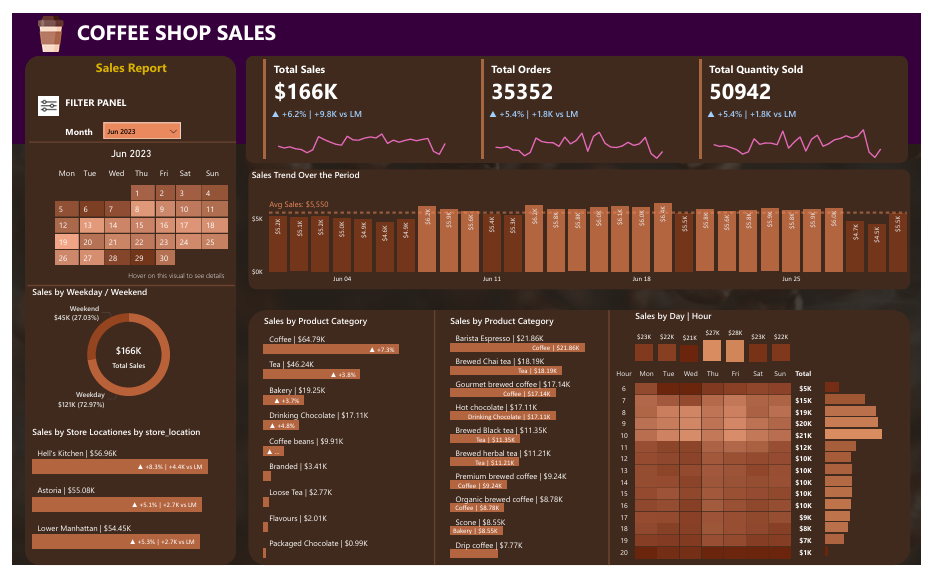

This screenshot's page, from the dashboard's own definition file:
{"tool":"powerbi","page":{"name":"Page 1","canvas":[1400,850],"ordinal":0},"visuals":[{"type":"shape","box":[0,0,1400,200.6],"z":0},{"type":"shape","box":[20.4,64.6,324.7,785.4],"z":1000},{"type":"shape","box":[360.4,64.6,1020,164.9],"z":2000},{"type":"textbox","box":[95.2,0,338.3,57.8],"z":3000},{"type":"cardVisual","fields":{"Data":["Transactions.Total Sales"]},"box":[382.5,64.6,299.2,164.9],"z":4000,"group":"g1"},{"type":"cardVisual","fields":{"Data":["Transactions.Total Orders"]},"box":[718.2,64.6,299.2,164.9],"z":4000,"group":"g2"},{"type":"cardVisual","fields":{"Data":["Transactions.Total Quantity Sold"]},"box":[1054,64.6,299.2,164.9],"z":4000,"group":"g3"},{"type":"slicer","fields":{"Values":["Date Table.Month Year"]},"box":[136,163.2,129.2,34],"z":4000},{"type":"group","id":"g1","title":"Group 1","box":[382.5,64.6,299.2,164.9],"z":5000},{"type":"group","id":"g2","title":"Group 2","box":[718.2,64.6,299.2,164.9],"z":6000},{"type":"lineChart","fields":{"Category":["Date Table.Date.Variation.Date Hierarchy.Year"],"Y":["Transactions.Total Sales"]},"box":[394.4,144.5,287.3,85],"z":6000,"group":"g1"},{"type":"lineChart","fields":{"Category":["Date Table.Date.Variation.Date Hierarchy.Year"],"Y":["Transactions.Total Orders"]},"box":[730.1,144.5,287.3,85],"z":6000,"group":"g2"},{"type":"lineChart","fields":{"Category":["Date Table.Date.Variation.Date Hierarchy.Year"],"Y":["Transactions.Total Quantity Sold"]},"box":[1065.9,144.5,287.3,85],"z":6000,"group":"g3"},{"type":"group","id":"g3","title":"Group 2","box":[1054,64.6,299.2,164.9],"z":7000},{"type":"pivotTable","fields":{"Rows":["Date Table.Week Number"],"Columns":["Date Table.Day Name"],"Values":["Min(Date Table.Day Number)"]},"box":[35.7,229.5,305,190],"z":8000},{"type":"card","fields":{"Values":["Min(Date Table.Month Year)"]},"box":[141.1,200.6,85,30.6],"z":9000},{"type":"card","fields":{"Values":["Transactions.Foot Note"]},"box":[151.3,391,204,28.9],"z":10000},{"type":"shape","box":[23.8,401.2,319.6,35.7],"z":11000},{"type":"shape","box":[25.5,180.2,319.6,35.7],"z":12000},{"type":"donutChart","title":"Sales by Weekday / Weekend","fields":{"Category":["Date Table.Weekday / Weekend"],"Y":["Transactions.Total Sales"]},"box":[25.5,419.9,307.7,193.8],"z":13000},{"type":"card","fields":{"Values":["Transactions.Total Sales"]},"box":[136,499.8,86.7,56.1],"z":14000},{"type":"shape","box":[795.6,635.8,319.6,35.7],"z":15000},{"type":"clusteredBarChart","title":"Sales by Store Locationes by store_location","fields":{"Category":["Transactions.store_location"],"Y":["Transactions.Placeholder","Transactions.Total Sales"]},"box":[25.5,635.8,307.7,197.2],"z":16000},{"type":"shape","box":[363.8,239.7,1020,185.3],"z":17000},{"type":"columnChart","title":"Sales Trend Over the Period","fields":{"Category":["Transactions.transaction_date"],"Y":["Transactions.Total Sales"]},"box":[363.8,239.7,1020,185.3],"z":18000},{"type":"shape","box":[363.8,457.3,1020,392.7],"z":19000},{"type":"clusteredBarChart","title":"Sales by Product Category","fields":{"Y":["Transactions.Placeholder","Transactions.Total Sales"],"Category":["Transactions.product_category"]},"box":[382.5,464.1,249.9,380.8],"z":20000},{"type":"shape","box":[632.4,457.3,37.4,392.7],"z":21000},{"type":"clusteredBarChart","title":"Sales by Product Category","fields":{"Y":["Transactions.Placeholder","Transactions.Total Sales"],"Category":["Transactions.product_type"]},"box":[669.8,464.1,249.9,380.8],"z":22000},{"type":"shape","box":[901,457.3,37.4,392.7],"z":23000},{"type":"pivotTable","fields":{"Rows":["Transactions.Hour"],"Columns":["Date Table.Day Name"],"Values":["Transactions.Total Sales"]},"box":[919.7,542.3,370.6,307.7],"z":24000},{"type":"barChart","fields":{"Category":["Transactions.Hour"],"Y":["Transactions.Total Sales"]},"box":[1247.8,555.9,132.6,283.9],"z":25000},{"type":"columnChart","title":"Sales by Day | Hour","fields":{"Y":["Transactions.Total Sales"],"Category":["Date Table.Day Name"]},"box":[955.4,457.3,248.2,85],"z":26000},{"type":"textbox","box":[76.5,168.3,64.6,32.3],"z":27000},{"type":"textbox","box":[124.1,64.6,129.2,40.8],"z":28000},{"type":"textbox","box":[76.5,122.4,129.2,40.8],"z":29000},{"type":"image","box":[35.7,122.4,40.8,39.1],"z":30000},{"type":"image","box":[23.8,0,71.4,64.6],"z":31000}]}

Visuals, with their boxes in screenshot pixels (x1, y1, x2, y2), scaled from the page's 1400x850 canvas onto the 933x581 screenshot:
shape: (x1=0, y1=0, x2=932, y2=137)
shape: (x1=14, y1=44, x2=230, y2=580)
shape: (x1=240, y1=44, x2=920, y2=157)
textbox: (x1=63, y1=0, x2=289, y2=40)
cardVisual - Transactions.Total Sales: (x1=255, y1=44, x2=454, y2=157)
cardVisual - Transactions.Total Orders: (x1=479, y1=44, x2=678, y2=157)
cardVisual - Transactions.Total Quantity Sold: (x1=702, y1=44, x2=902, y2=157)
slicer - Date Table.Month Year: (x1=91, y1=112, x2=177, y2=135)
"Group 1" group: (x1=255, y1=44, x2=454, y2=157)
"Group 2" group: (x1=479, y1=44, x2=678, y2=157)
lineChart - Date Table.Date.Variation.Date Hierarchy.Year x Transactions.Total Sales: (x1=263, y1=99, x2=454, y2=157)
lineChart - Date Table.Date.Variation.Date Hierarchy.Year x Transactions.Total Orders: (x1=487, y1=99, x2=678, y2=157)
lineChart - Date Table.Date.Variation.Date Hierarchy.Year x Transactions.Total Quantity Sold: (x1=710, y1=99, x2=902, y2=157)
"Group 2" group: (x1=702, y1=44, x2=902, y2=157)
pivotTable - Date Table.Week Number x Date Table.Day Name: (x1=24, y1=157, x2=227, y2=287)
card - Min(Date Table.Month Year): (x1=94, y1=137, x2=151, y2=158)
card - Transactions.Foot Note: (x1=101, y1=267, x2=237, y2=287)
shape: (x1=16, y1=274, x2=229, y2=299)
shape: (x1=17, y1=123, x2=230, y2=148)
"Sales by Weekday / Weekend" donutChart: (x1=17, y1=287, x2=222, y2=419)
card - Transactions.Total Sales: (x1=91, y1=342, x2=148, y2=380)
shape: (x1=530, y1=435, x2=743, y2=459)
"Sales by Store Locationes by store_location" clusteredBarChart: (x1=17, y1=435, x2=222, y2=569)
shape: (x1=242, y1=164, x2=922, y2=290)
"Sales Trend Over the Period" columnChart: (x1=242, y1=164, x2=922, y2=290)
shape: (x1=242, y1=313, x2=922, y2=580)
"Sales by Product Category" clusteredBarChart: (x1=255, y1=317, x2=421, y2=578)
shape: (x1=421, y1=313, x2=446, y2=580)
"Sales by Product Category" clusteredBarChart: (x1=446, y1=317, x2=613, y2=578)
shape: (x1=600, y1=313, x2=625, y2=580)
pivotTable - Transactions.Hour x Date Table.Day Name: (x1=613, y1=371, x2=860, y2=580)
barChart - Transactions.Hour x Transactions.Total Sales: (x1=832, y1=380, x2=920, y2=574)
"Sales by Day | Hour" columnChart: (x1=637, y1=313, x2=802, y2=371)
textbox: (x1=51, y1=115, x2=94, y2=137)
textbox: (x1=83, y1=44, x2=169, y2=72)
textbox: (x1=51, y1=84, x2=137, y2=112)
image: (x1=24, y1=84, x2=51, y2=110)
image: (x1=16, y1=0, x2=63, y2=44)
